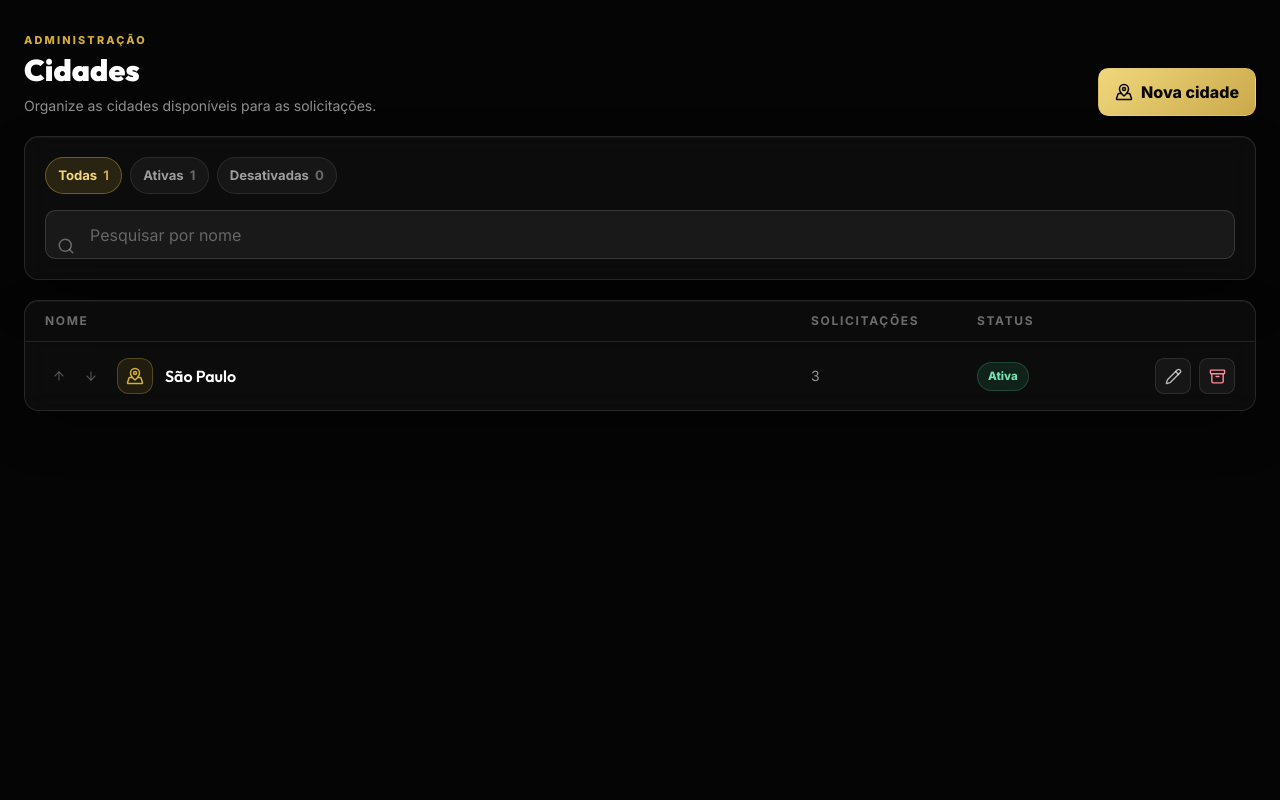
Test case: CitiesPanel › não deixa resposta atrasada de deactivate vencer um UPDATE Realtime posterior
The image size is (1280, 800).
Click the button named "Desativar São Paulo".
click(1217, 376)  # box [1199,358,1235,394]
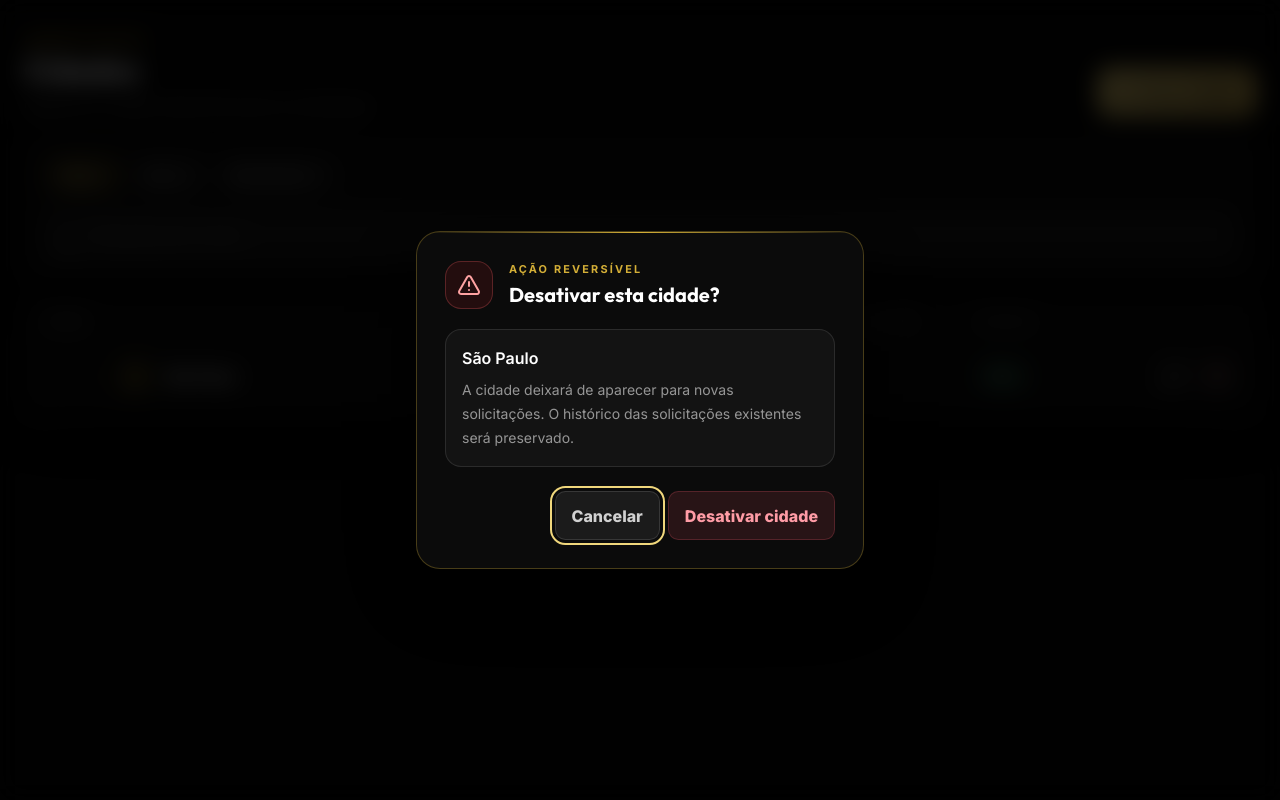
Click the button "Desativar cidade".
click(751, 516)  # box [668,492,835,540]
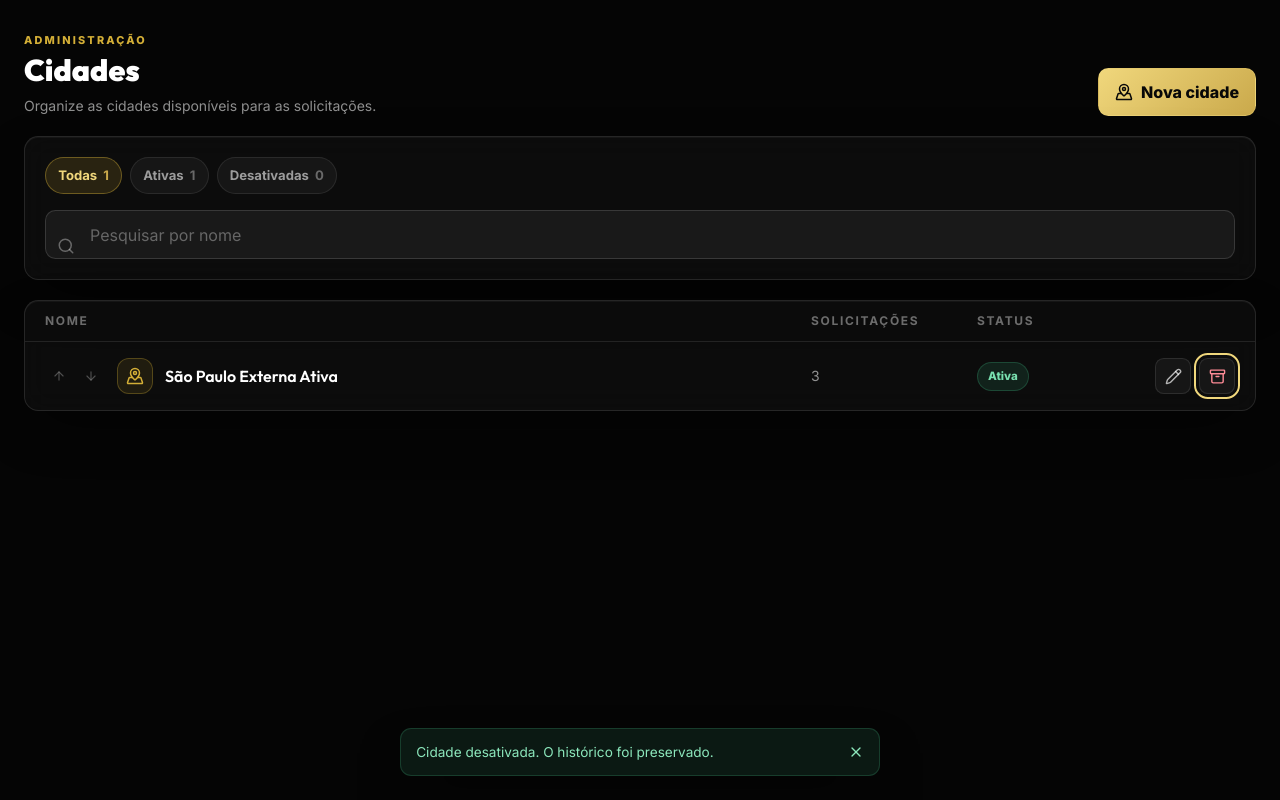
Expected: the heading "São Paulo Externa Ativa" is shown, [165,364,338,388]
